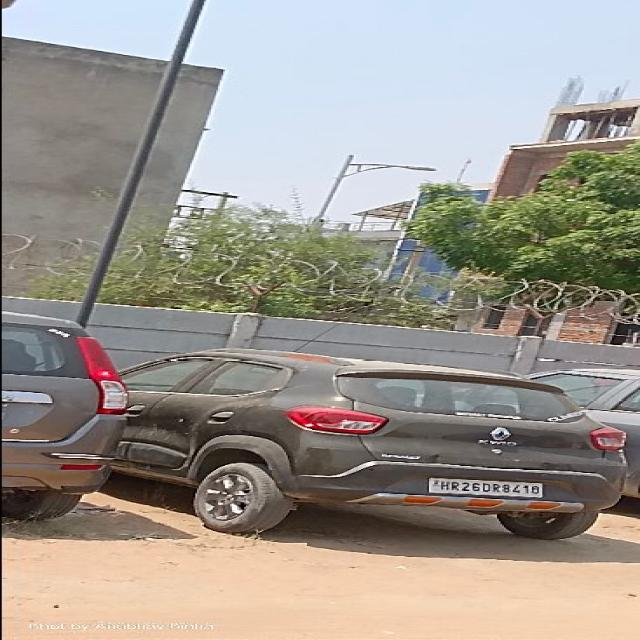license_plate: (424, 476, 544, 498)
